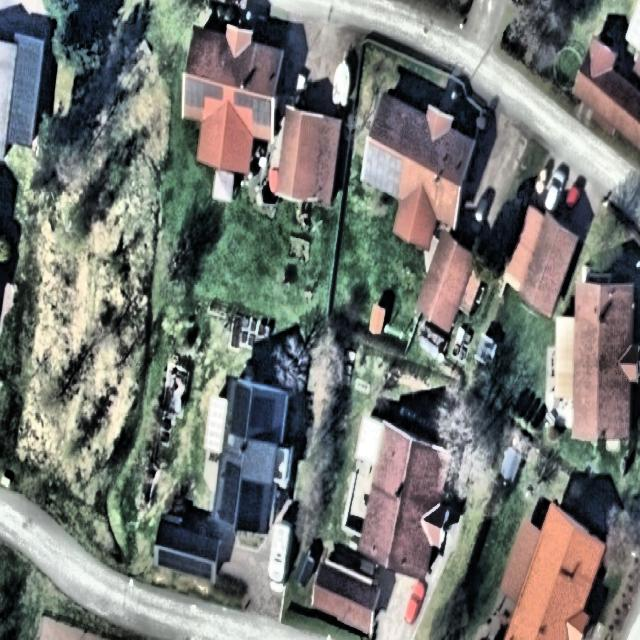roof_pv: (359, 141, 406, 202), (155, 545, 215, 580), (230, 89, 276, 134), (218, 454, 245, 526), (183, 74, 225, 119), (238, 479, 266, 538), (227, 384, 253, 443), (249, 393, 278, 431)
